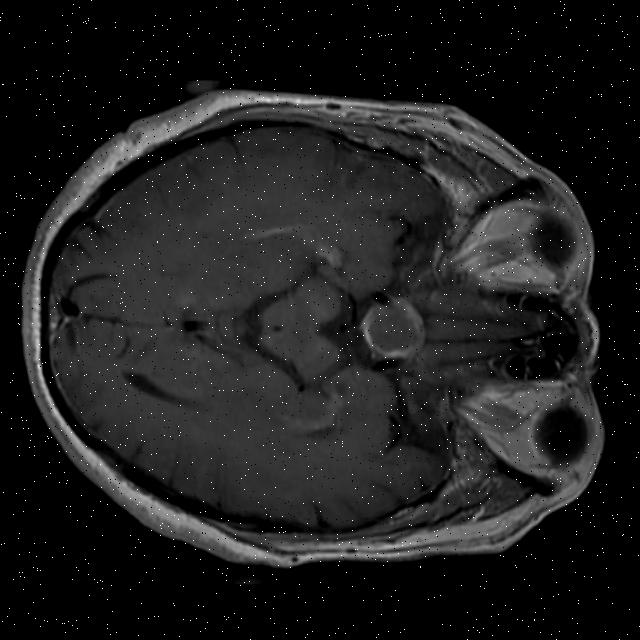Pituitary: (358, 294, 428, 364)
